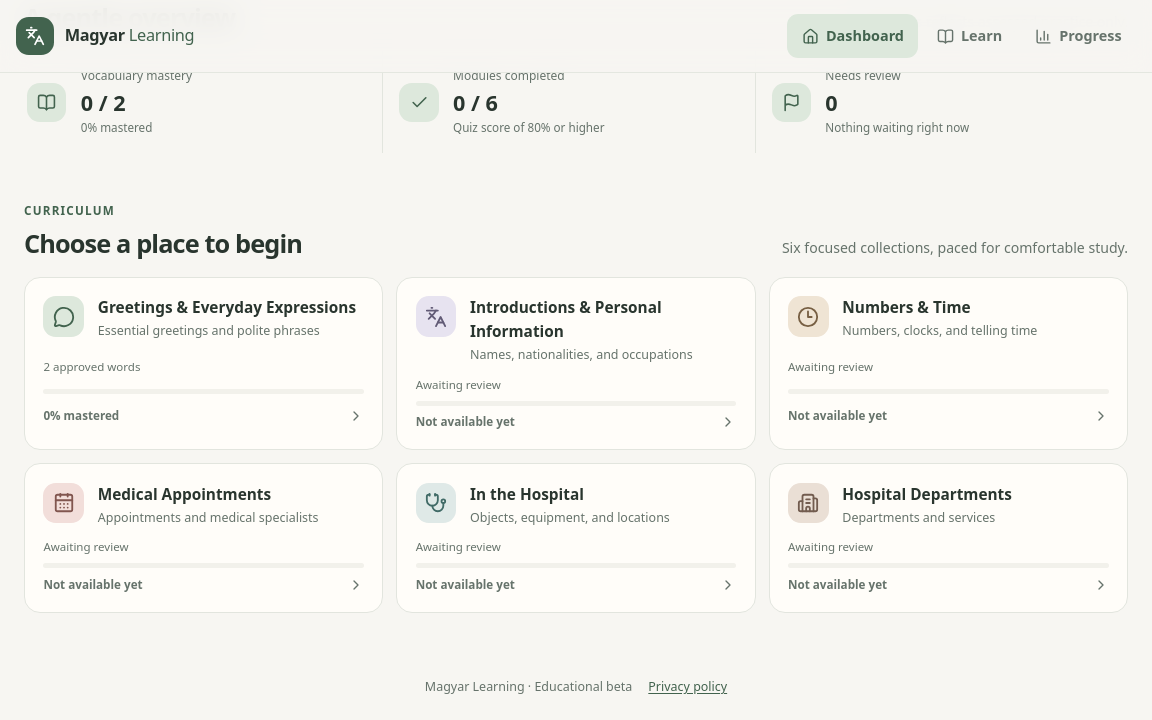
Test: renders flashcards before the pronunciation settings and supports flipping, navigation and voice choice
(page scrolled)
Click the button "Greetings & Everyday Expressions" at (64, 317), box [24,277,384,450]
(page scrolled)
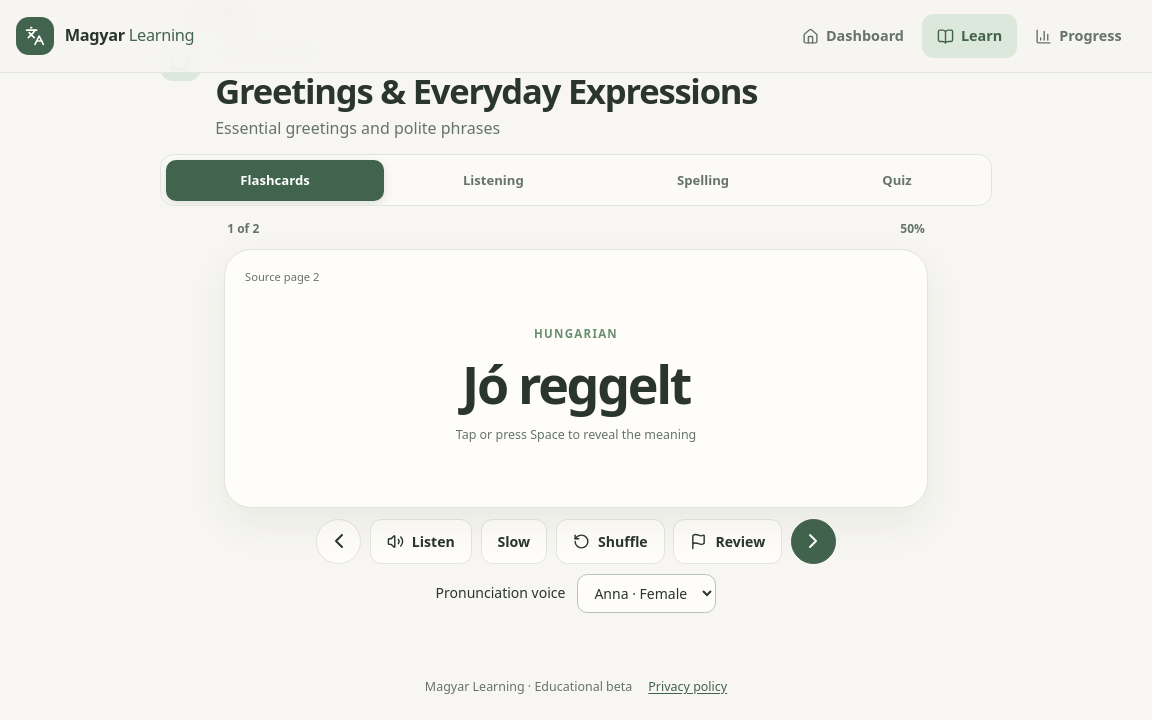
Expected: the text "Jó reggelt" is shown, [462,355,690,412]
Click the button with aria-label "flip Hungarian flashcard" at (576, 379), box [224,249,928,508]
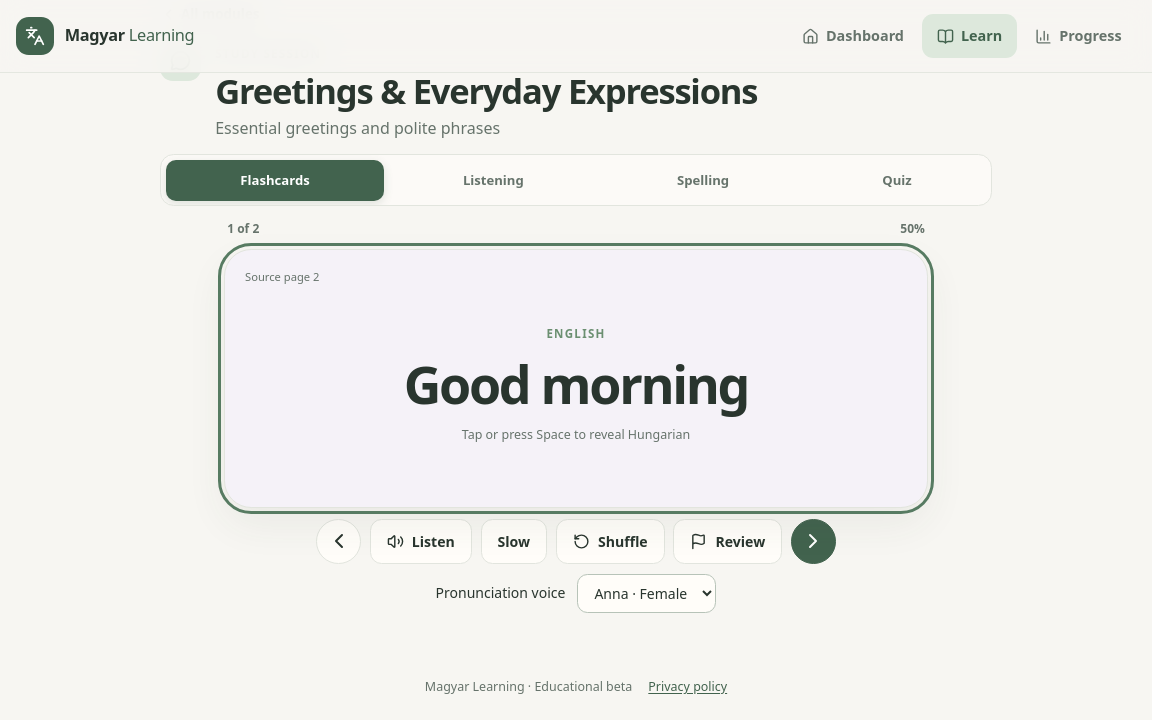
Expected: the button with aria-label "flip English flashcard: Good morning" is shown, [224,249,928,508]
Select "Imre · Male" in the dropdown labelled "Pronunciation voice" at (647, 593), box [577,574,716,613]
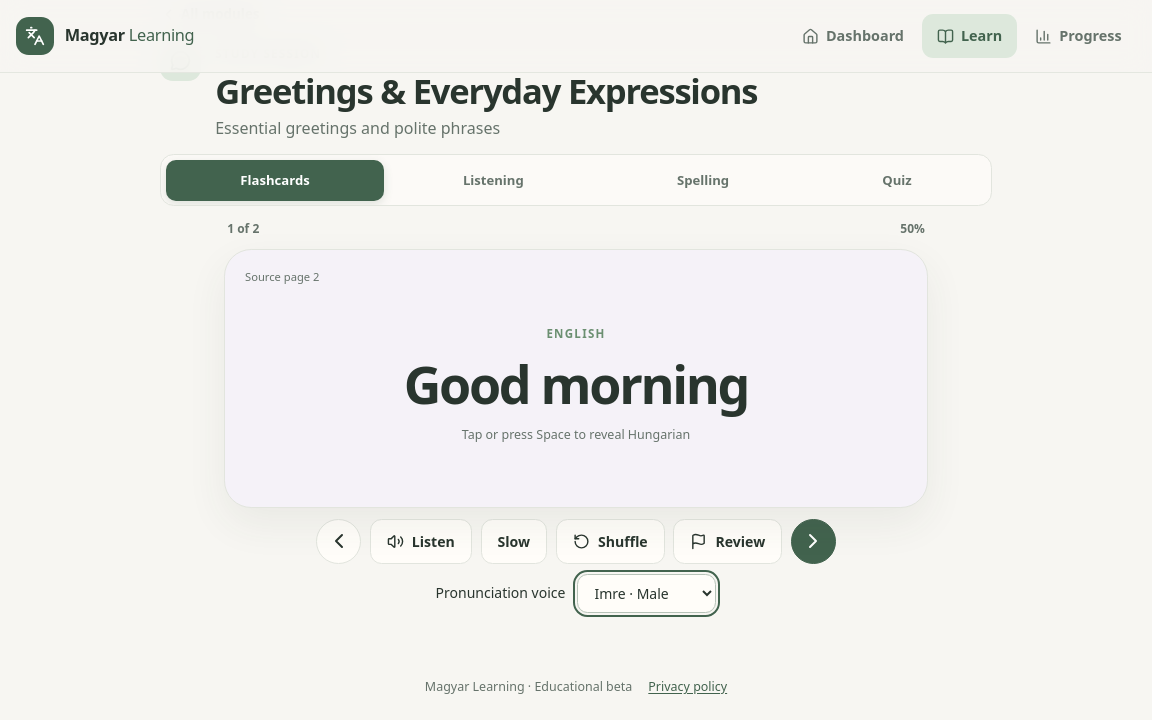
Click the button named "Next card" at (813, 541), box [791,519,836,564]
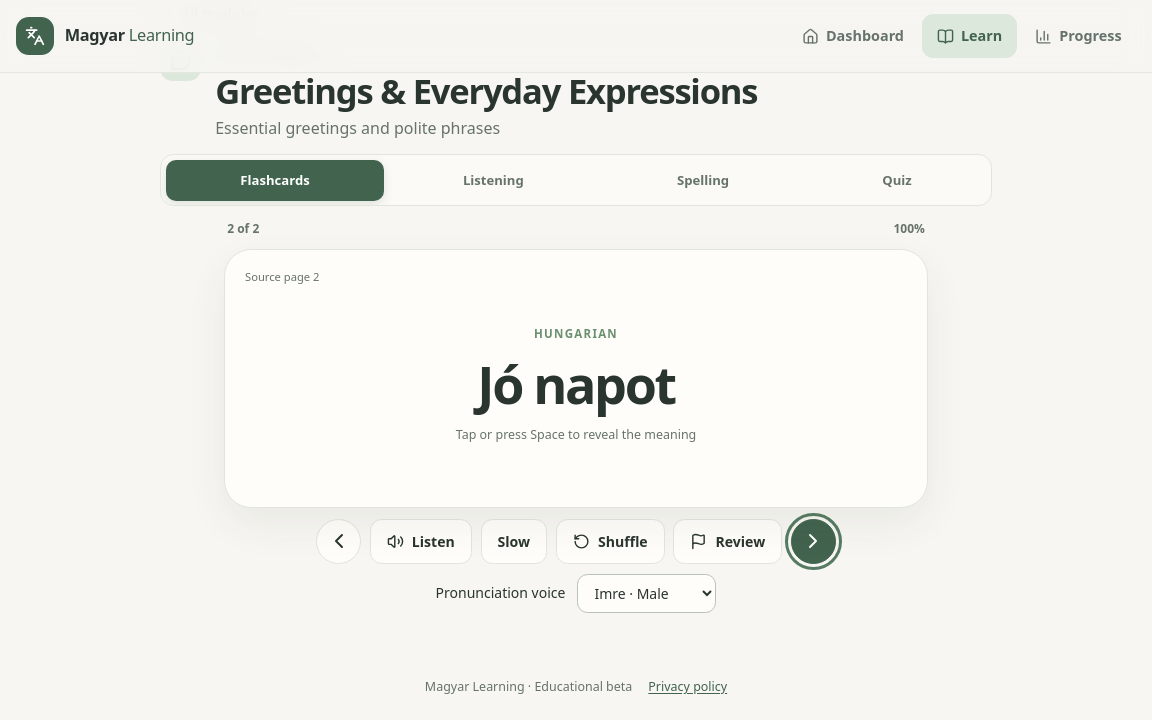
Expected: the button with aria-label "flip Hungarian flashcard: Jó napot" is shown, [224,249,928,508]
